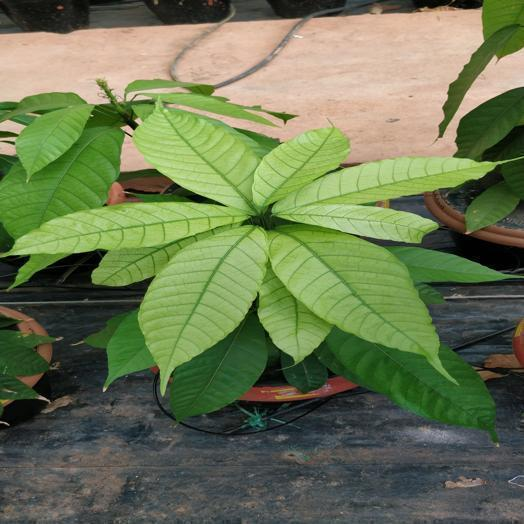Healthy Leaf: (321, 328, 495, 437), (0, 128, 122, 238), (171, 313, 266, 421), (16, 104, 93, 179), (457, 87, 523, 158), (106, 312, 154, 388)
Iron: (268, 226, 450, 379), (139, 226, 266, 392), (134, 108, 257, 214), (273, 157, 496, 211), (9, 204, 247, 253), (92, 228, 223, 286), (254, 127, 348, 205), (258, 268, 331, 363), (275, 204, 437, 242), (386, 246, 517, 282)
